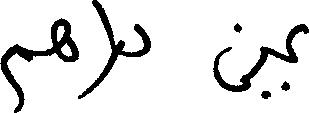X: (214, 18, 250, 96), (52, 13, 78, 103), (0, 39, 30, 112), (95, 0, 115, 92), (287, 19, 308, 94), (117, 19, 149, 61), (80, 0, 93, 103), (259, 41, 268, 103)
